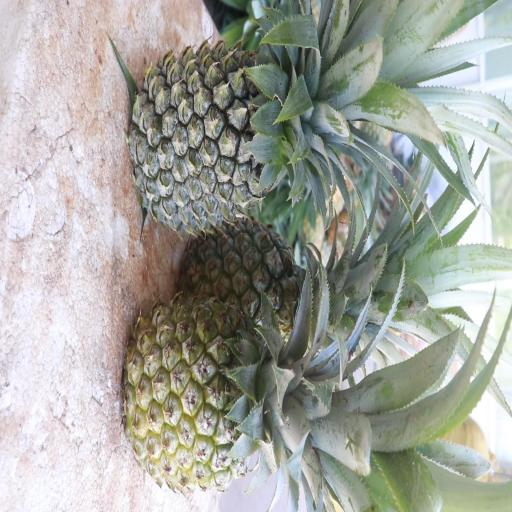------------------------------: (116, 285, 354, 506), (170, 212, 369, 372)
